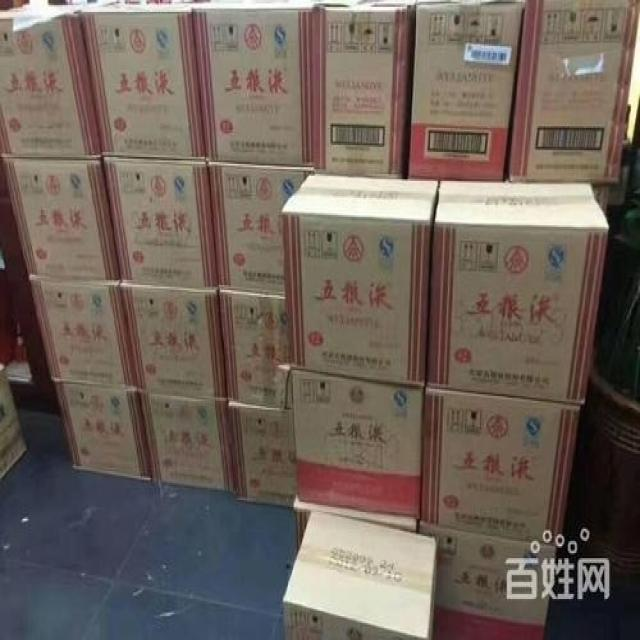box: (426, 179, 608, 406), (280, 174, 439, 387), (420, 389, 579, 548), (509, 0, 640, 181), (410, 0, 524, 181), (289, 365, 425, 515), (193, 0, 314, 167), (82, 0, 205, 159), (283, 512, 436, 638), (314, 3, 413, 174), (420, 524, 559, 640), (0, 2, 100, 159), (101, 159, 219, 288), (3, 157, 118, 280), (206, 160, 307, 295), (118, 280, 225, 399), (28, 276, 138, 387), (140, 389, 234, 492), (52, 381, 147, 480), (219, 290, 291, 410), (225, 401, 296, 503), (293, 500, 420, 556)
